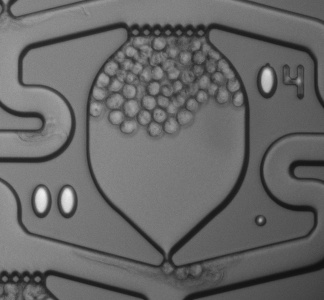AptNum: (249, 58, 309, 106)
Marker: (249, 210, 271, 231)
StNum: (24, 178, 88, 229)
Trap: (138, 257, 195, 300)
